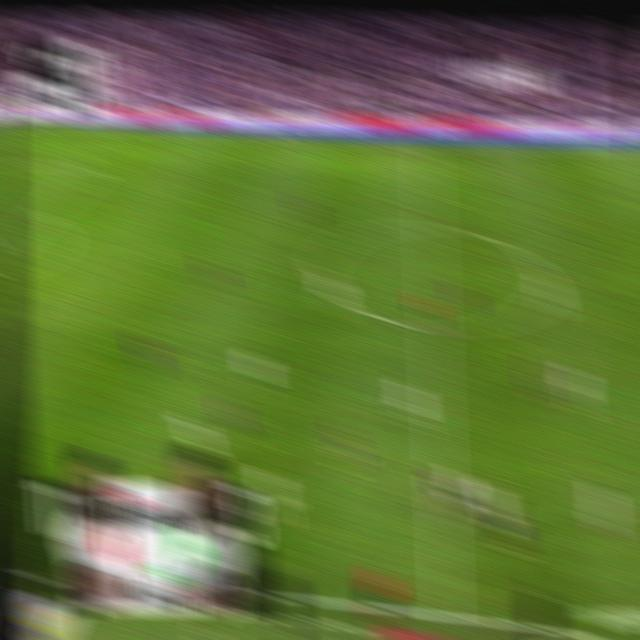bigarea_top_inner: (81, 159, 104, 177)
corner: (0, 117, 15, 129)
halfcircle_bottom: (421, 313, 448, 341)
halfcircle_top: (415, 212, 443, 240)
midline_bottom_intersection: (432, 596, 462, 629)
midline_top_intersection: (414, 135, 437, 154)
top_arc_area_intersection: (33, 201, 56, 222)
